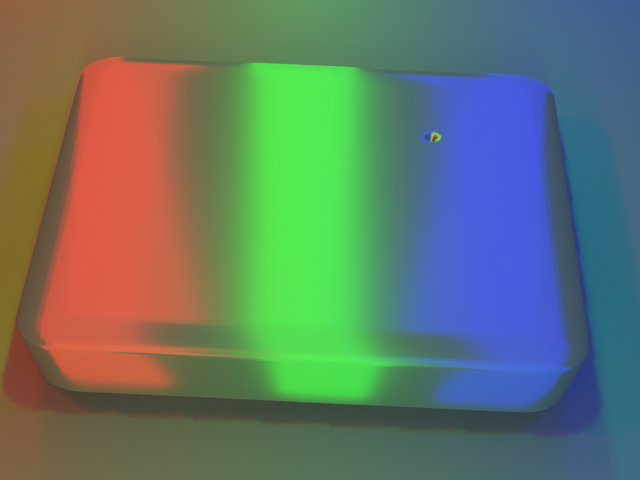dent: (421, 109, 463, 152)
